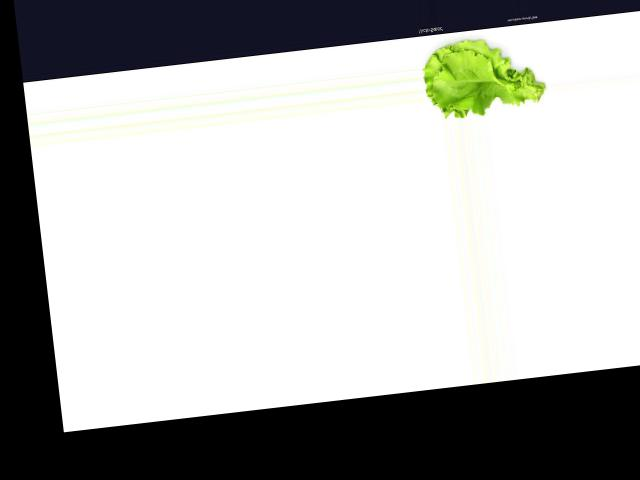lettuce: (419, 25, 545, 122)
